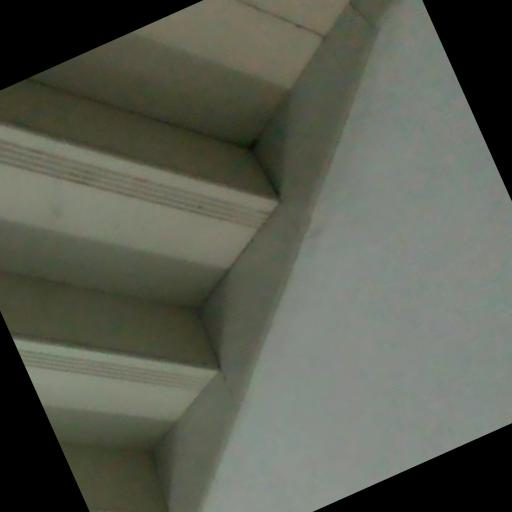stairs: (0, 80, 276, 511), (29, 0, 347, 143), (59, 442, 165, 511)
